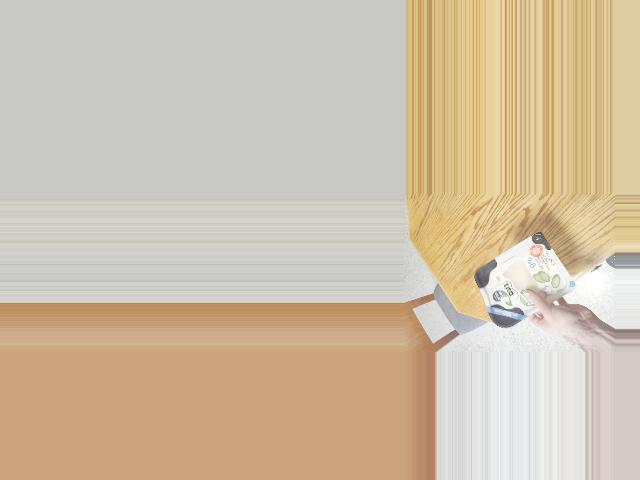cheese: (467, 240, 562, 328)
